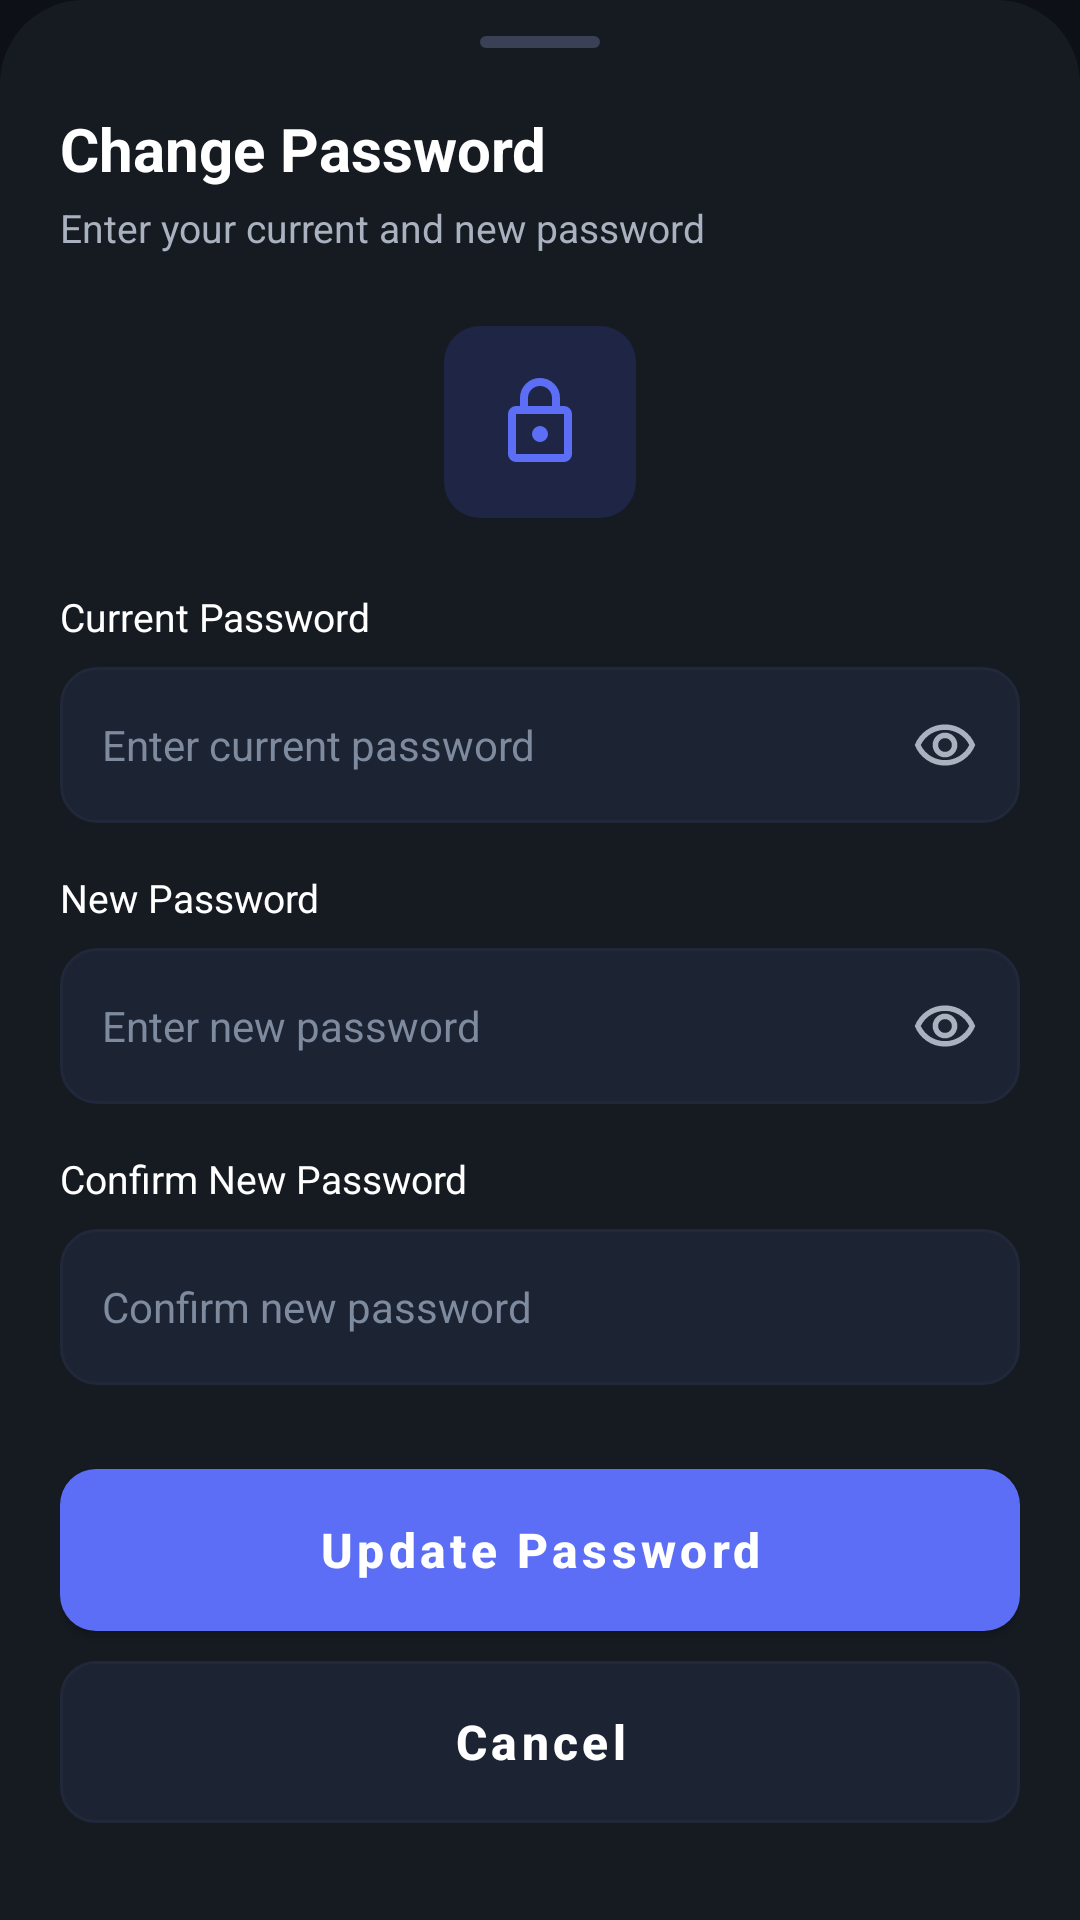

Icon bounding boxes for this 1080×1920 phone screenshot, format region(x1, y1, x2, y2):
eye: region(915, 724, 975, 766), region(915, 1005, 975, 1047)
lock: region(508, 378, 572, 462)
